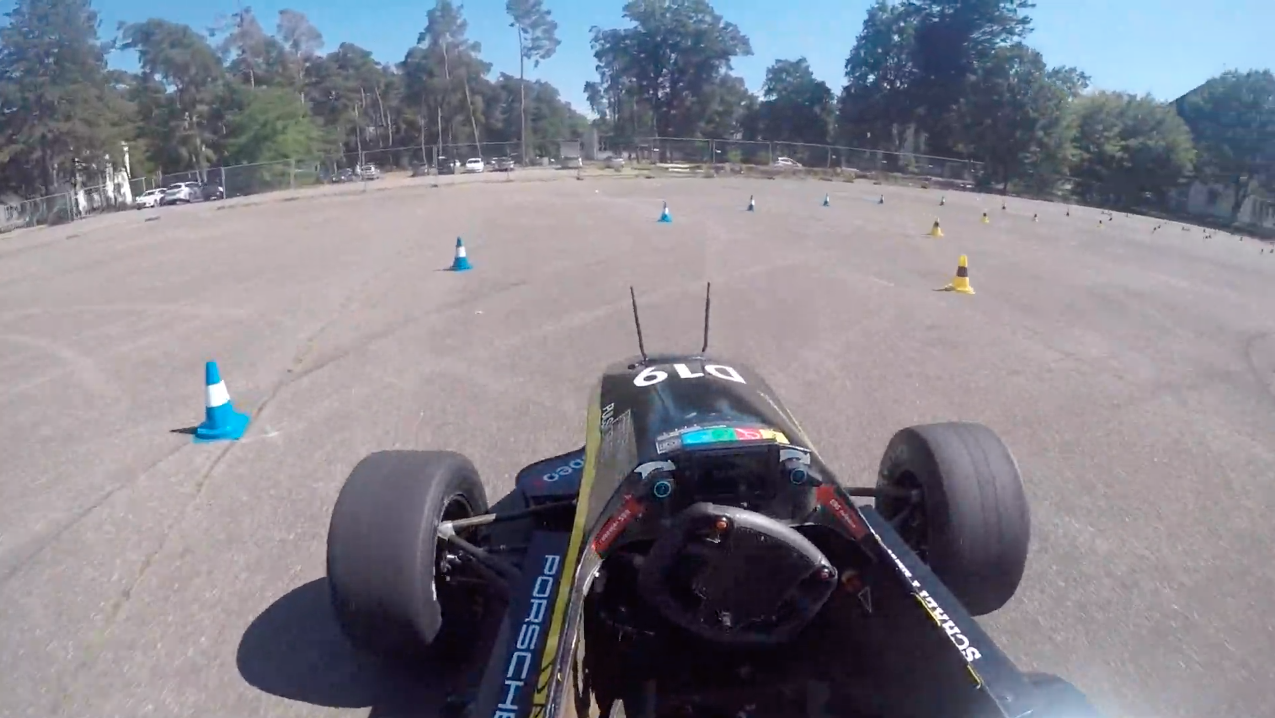lcone: (191, 355, 255, 448), (448, 232, 477, 274), (655, 199, 676, 225)
rcone: (944, 252, 981, 297), (928, 216, 948, 241)
